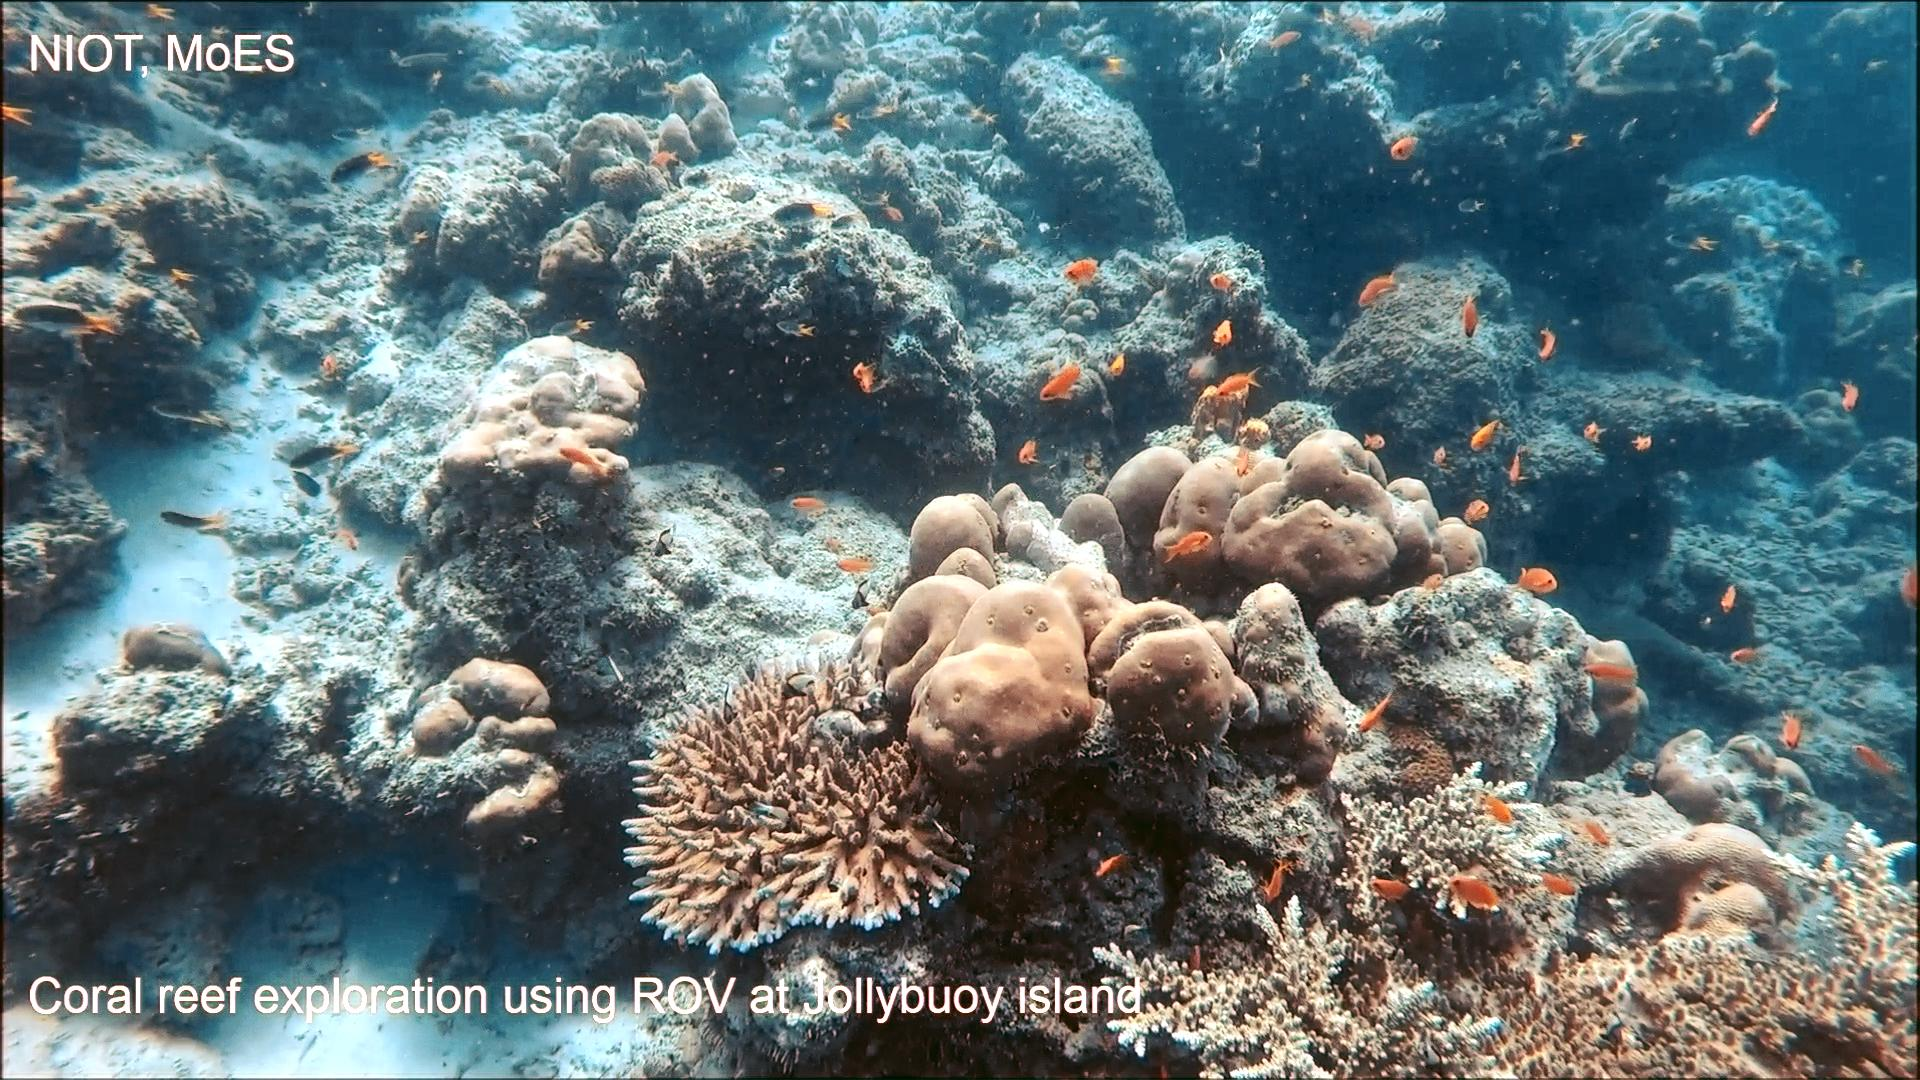Porites-Porites pukoensis: (853, 479, 1242, 800), (1083, 421, 1494, 599)
